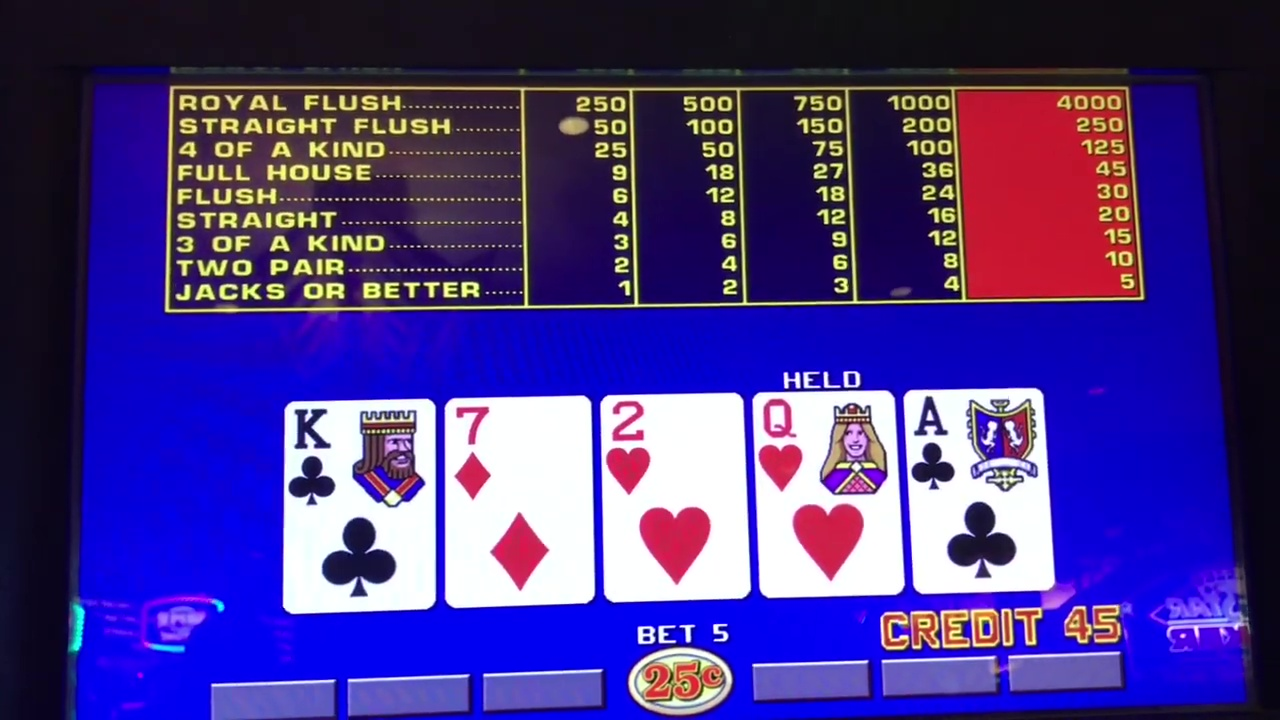CA: (911, 385, 1046, 486)
CK: (287, 405, 432, 507)
D7: (448, 400, 587, 502)
H2: (603, 398, 747, 497)
HQ: (762, 392, 887, 494)
